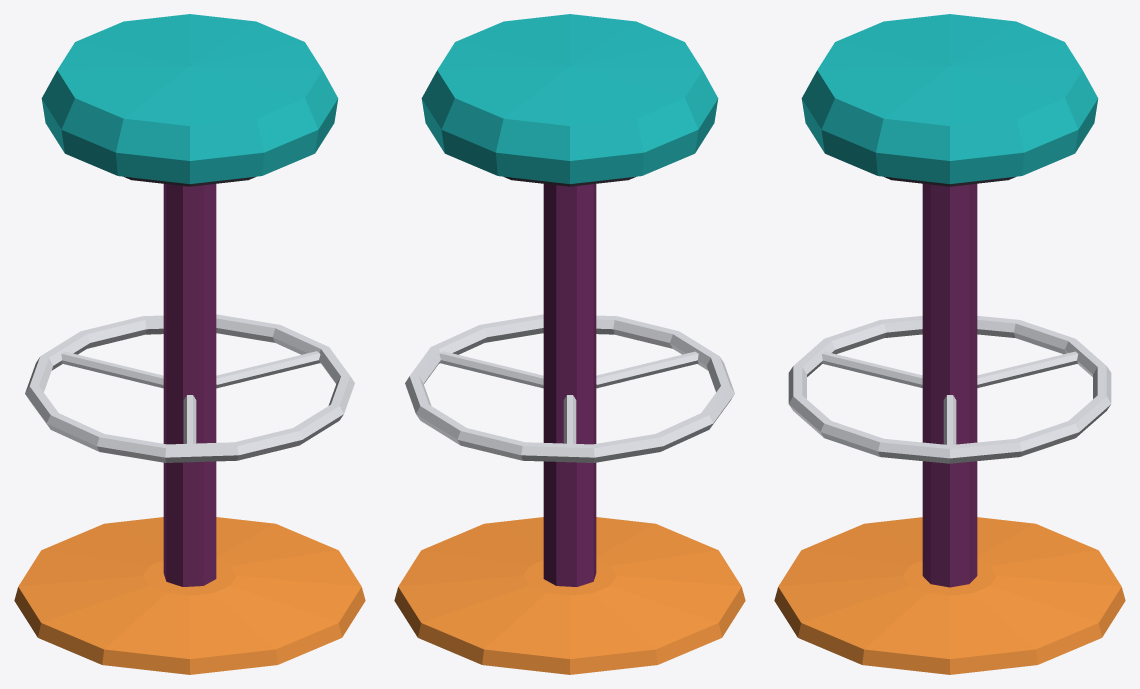
3 views of the same model, side by side, from view 1: azimuth 30°, elevation 25°; view 2: azimuth 150°, elevation 25°; view 3: azimuth 270°, elevation 25° (orthographic).
Visible parts, largest first — view 1: base, cushion, post, foot_ring, ring_spoke_0, ring_spoke_1, ring_spoke_2; view 2: base, cushion, post, foot_ring, ring_spoke_0, ring_spoke_2, ring_spoke_1; view 3: cushion, base, post, foot_ring, ring_spoke_1, ring_spoke_2, ring_spoke_0.
Boxes of the visible parts, left/top/right/bottom form: base: left=14, top=517, right=365, bottom=674; cushion: left=41, top=14, right=338, bottom=183; post: left=163, top=184, right=216, bottom=586; foot_ring: left=25, top=314, right=354, bottom=462; ring_spoke_0: left=216, top=351, right=320, bottom=388; ring_spoke_1: left=61, top=351, right=163, bottom=388; ring_spoke_2: left=183, top=395, right=196, bottom=443; base: left=394, top=517, right=745, bottom=674; cushion: left=421, top=14, right=718, bottom=183; post: left=543, top=184, right=596, bottom=586; foot_ring: left=405, top=314, right=734, bottom=462; ring_spoke_0: left=439, top=351, right=543, bottom=388; ring_spoke_2: left=596, top=351, right=698, bottom=388; ring_spoke_1: left=563, top=395, right=576, bottom=443; cushion: left=801, top=14, right=1098, bottom=183; base: left=774, top=517, right=1125, bottom=674; post: left=922, top=183, right=977, bottom=587; foot_ring: left=788, top=316, right=1111, bottom=463; ring_spoke_1: left=977, top=351, right=1077, bottom=387; ring_spoke_2: left=822, top=351, right=922, bottom=387; ring_spoke_0: left=943, top=395, right=956, bottom=444.
Bounding box in the file's own units: 0.45 × 0.755 × 0.45.
